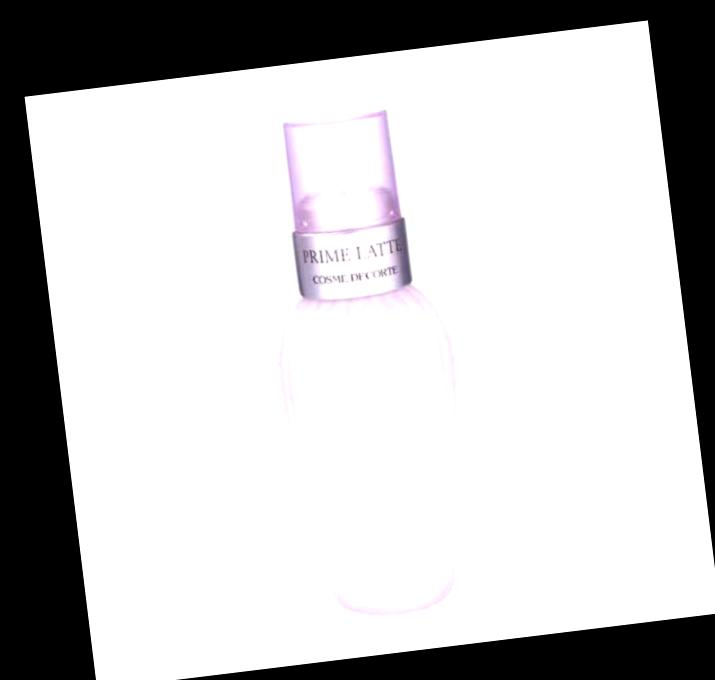cosmetic: (260, 99, 479, 628)
